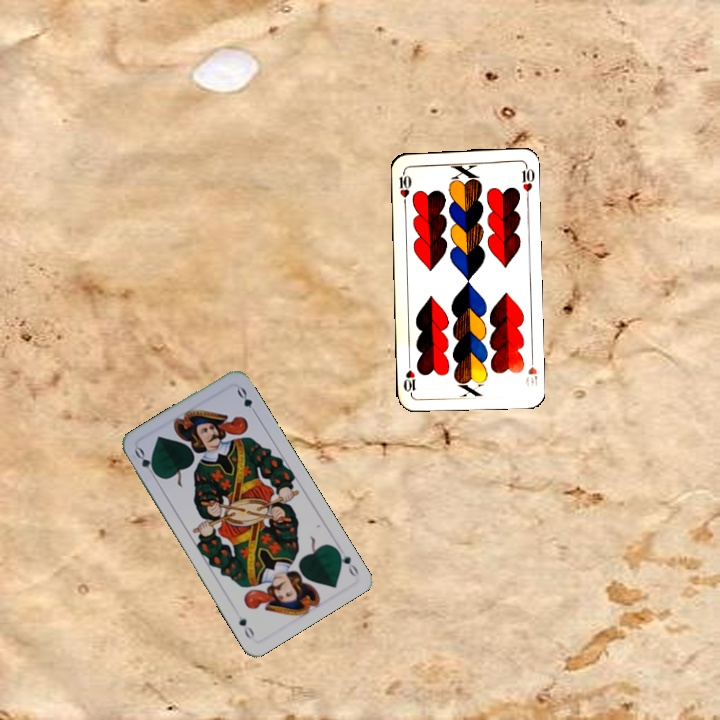GO: (130, 443, 161, 481), (331, 544, 361, 579)
H10: (395, 166, 414, 207), (524, 351, 540, 388)
